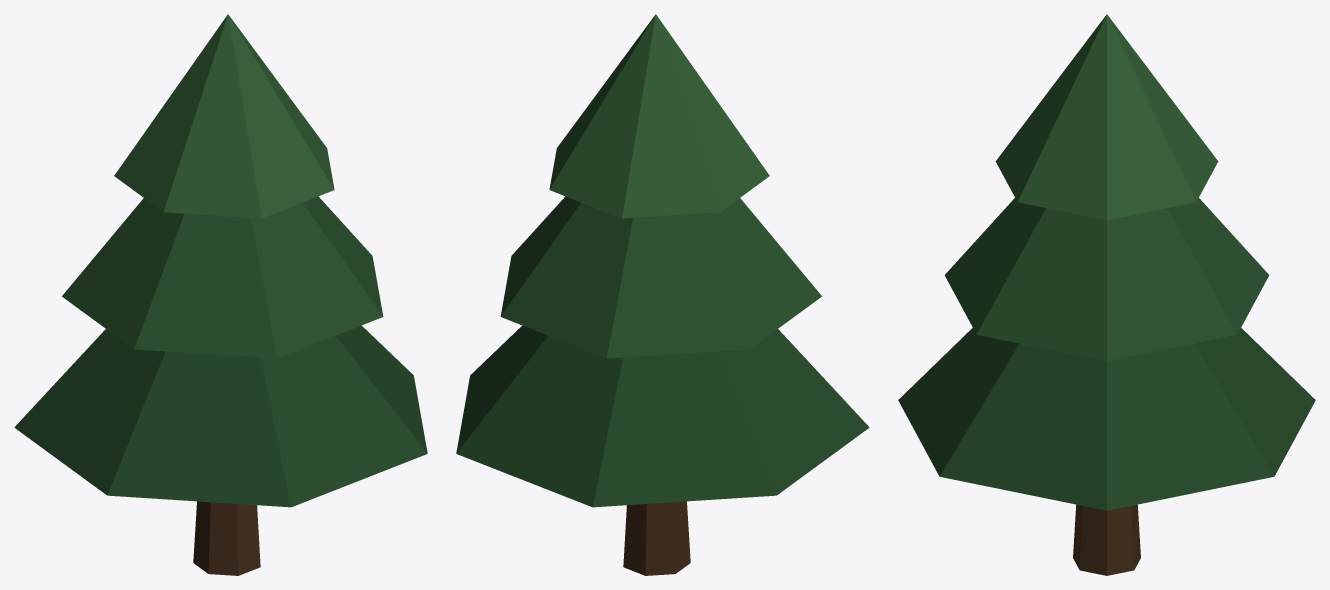
File: prop_pine.glb
3 renders of one model, left to right at view 1: azimuth 30°, elevation 25°; view 2: azimuth 150°, elevation 25°; view 3: azimuth 270°, elevation 25°, orthographic.
Parts seen in each view (by area): view 1: prop_pine; view 2: prop_pine; view 3: prop_pine.
Part boxes in pixels (x1=…): prop_pine: x1=14, y1=14, x2=427, y2=575; prop_pine: x1=456, y1=14, x2=869, y2=575; prop_pine: x1=898, y1=14, x2=1315, y2=575.
Bounding box in the file's own units: 2.57 × 3.8 × 2.63.
